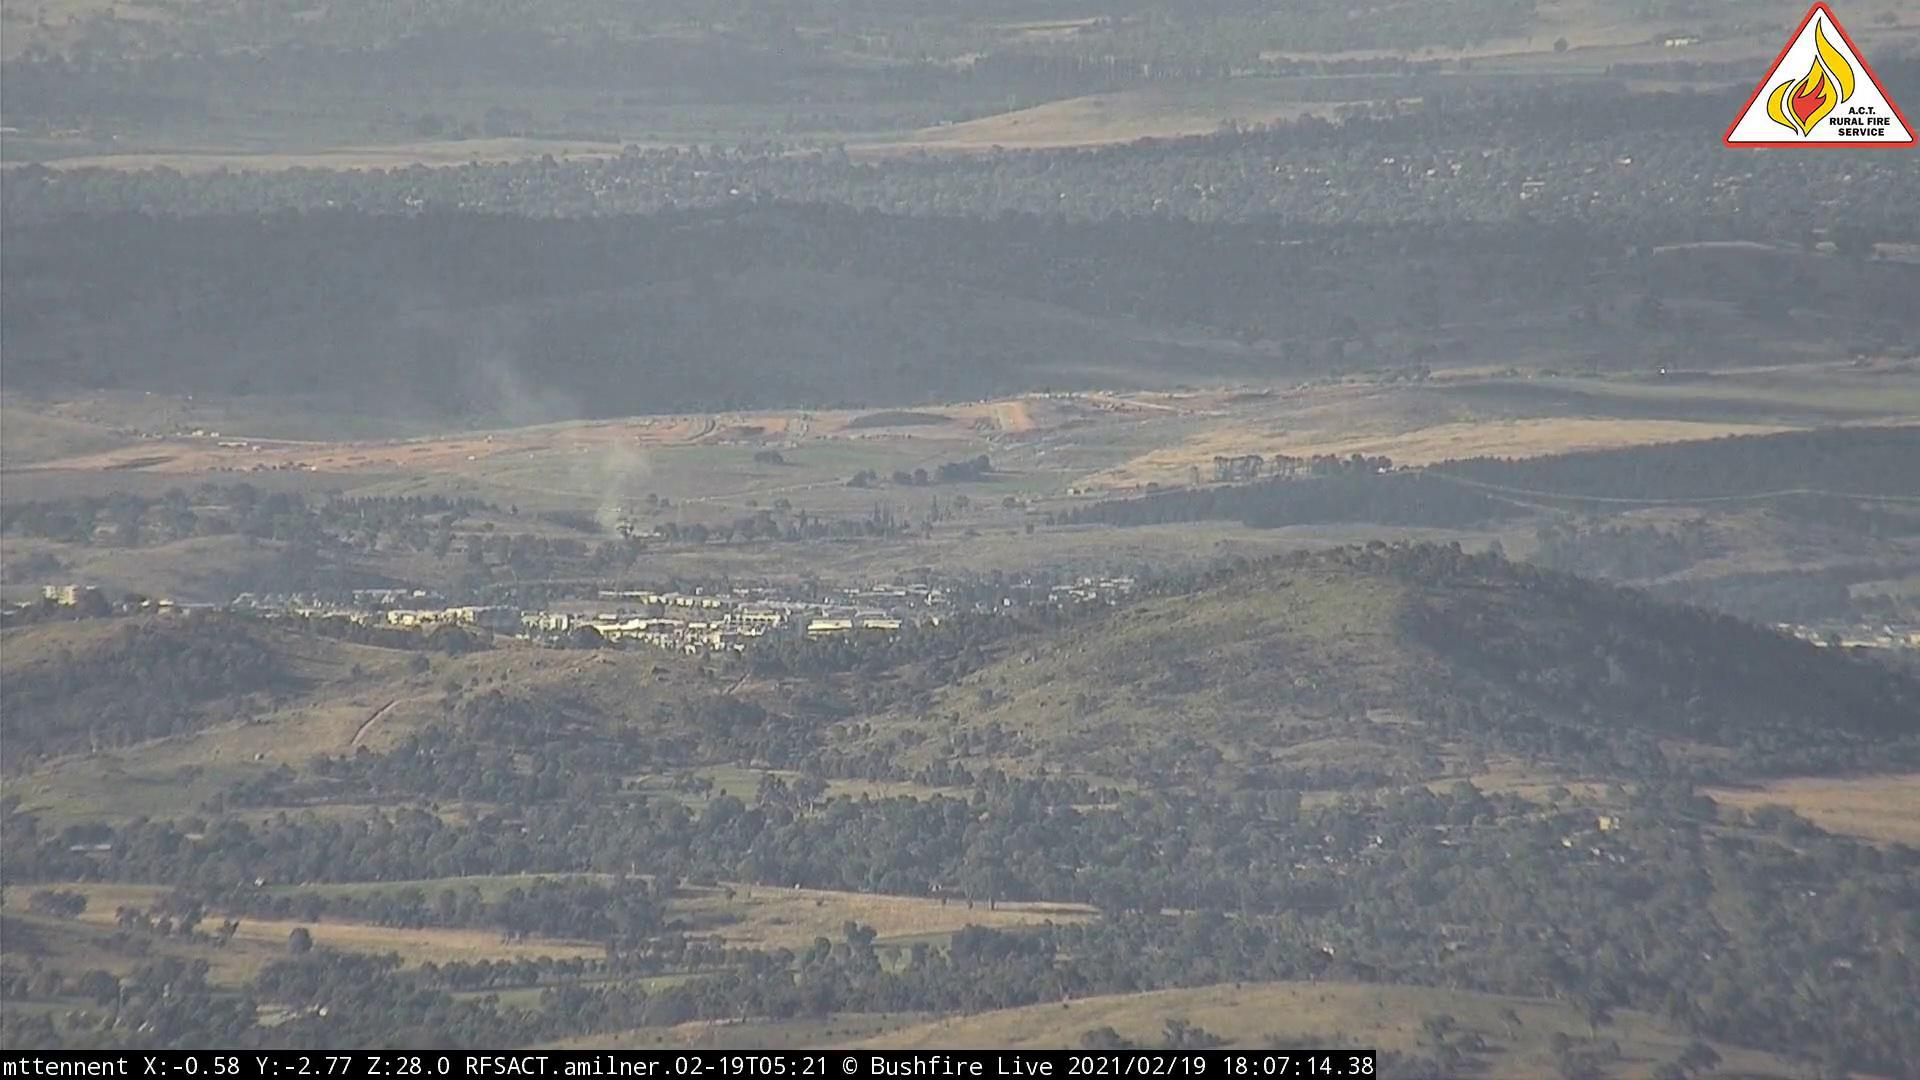Smoke: (576, 443, 673, 551)
